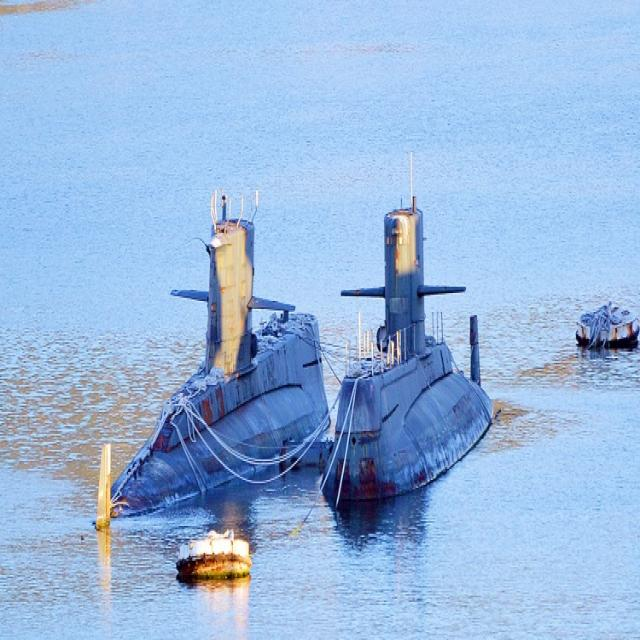submarine: (97, 215, 336, 533), (323, 207, 493, 503)
